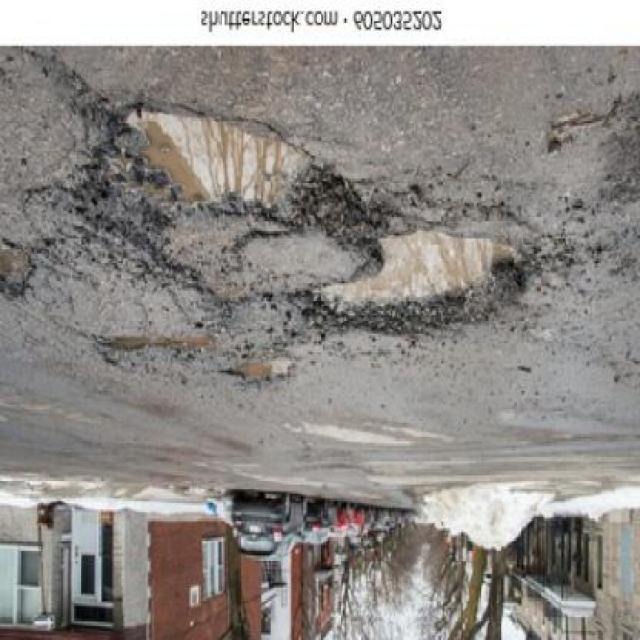Pothole: (318, 230, 526, 332), (126, 108, 311, 208)
